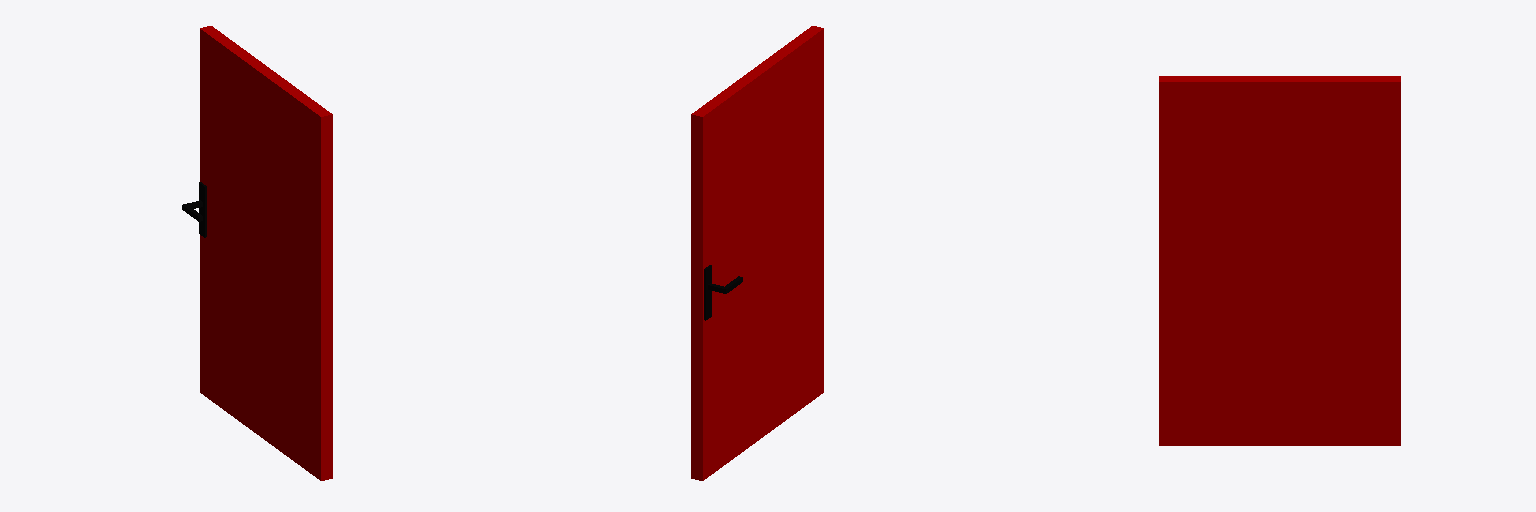
File: porte_classe_basique.obj
The picture shows the model from 3 angles: view 1: azimuth 30°, elevation 25°; view 2: azimuth 150°, elevation 25°; view 3: azimuth 270°, elevation 25°; orthographic projection.
Parts seen in each view (by area): view 1: Cube.010; view 2: Cube.010; view 3: Cube.010.
Part boxes in pixels (x1,y1,x2,y2): Cube.010: (182, 26, 332, 480); Cube.010: (691, 26, 823, 480); Cube.010: (1159, 76, 1400, 445).
Bounding box in the file's own units: 0.4526 × 4.89 × 2.96.